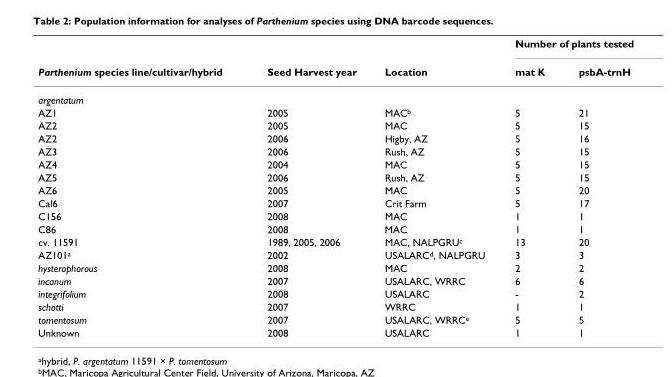table: (37, 36, 633, 338)
table column: (37, 36, 244, 338), (369, 36, 499, 338), (244, 36, 369, 338), (561, 36, 633, 338), (499, 36, 561, 338)
table column header: (37, 36, 633, 85)
table projected row header: (37, 85, 633, 105)
table row: (37, 57, 633, 85), (37, 36, 633, 57), (37, 85, 633, 105), (37, 105, 633, 118), (37, 118, 633, 131), (37, 131, 633, 144), (37, 144, 633, 157), (37, 157, 633, 170), (37, 170, 633, 183), (37, 183, 633, 196), (37, 196, 633, 209), (37, 209, 633, 222), (37, 222, 633, 235), (37, 235, 633, 248), (37, 248, 633, 261), (37, 273, 633, 286), (37, 286, 633, 299), (37, 299, 633, 312), (37, 312, 633, 325), (37, 325, 633, 338), (37, 261, 633, 273)
table spanning cell: (37, 36, 244, 85), (369, 36, 499, 85), (244, 36, 369, 85), (499, 36, 633, 57)
